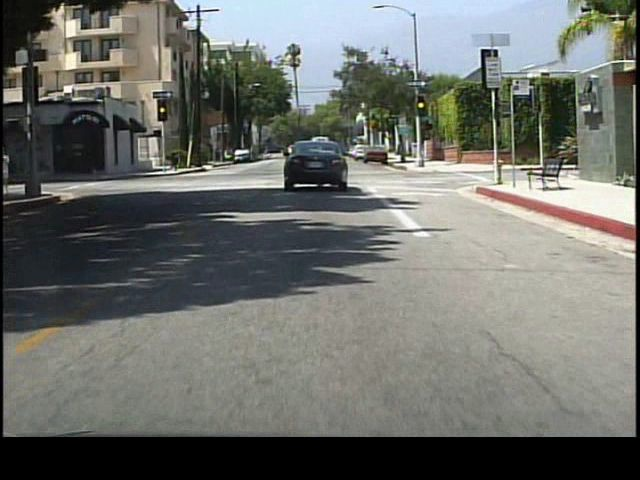person: (4, 144, 20, 194)
